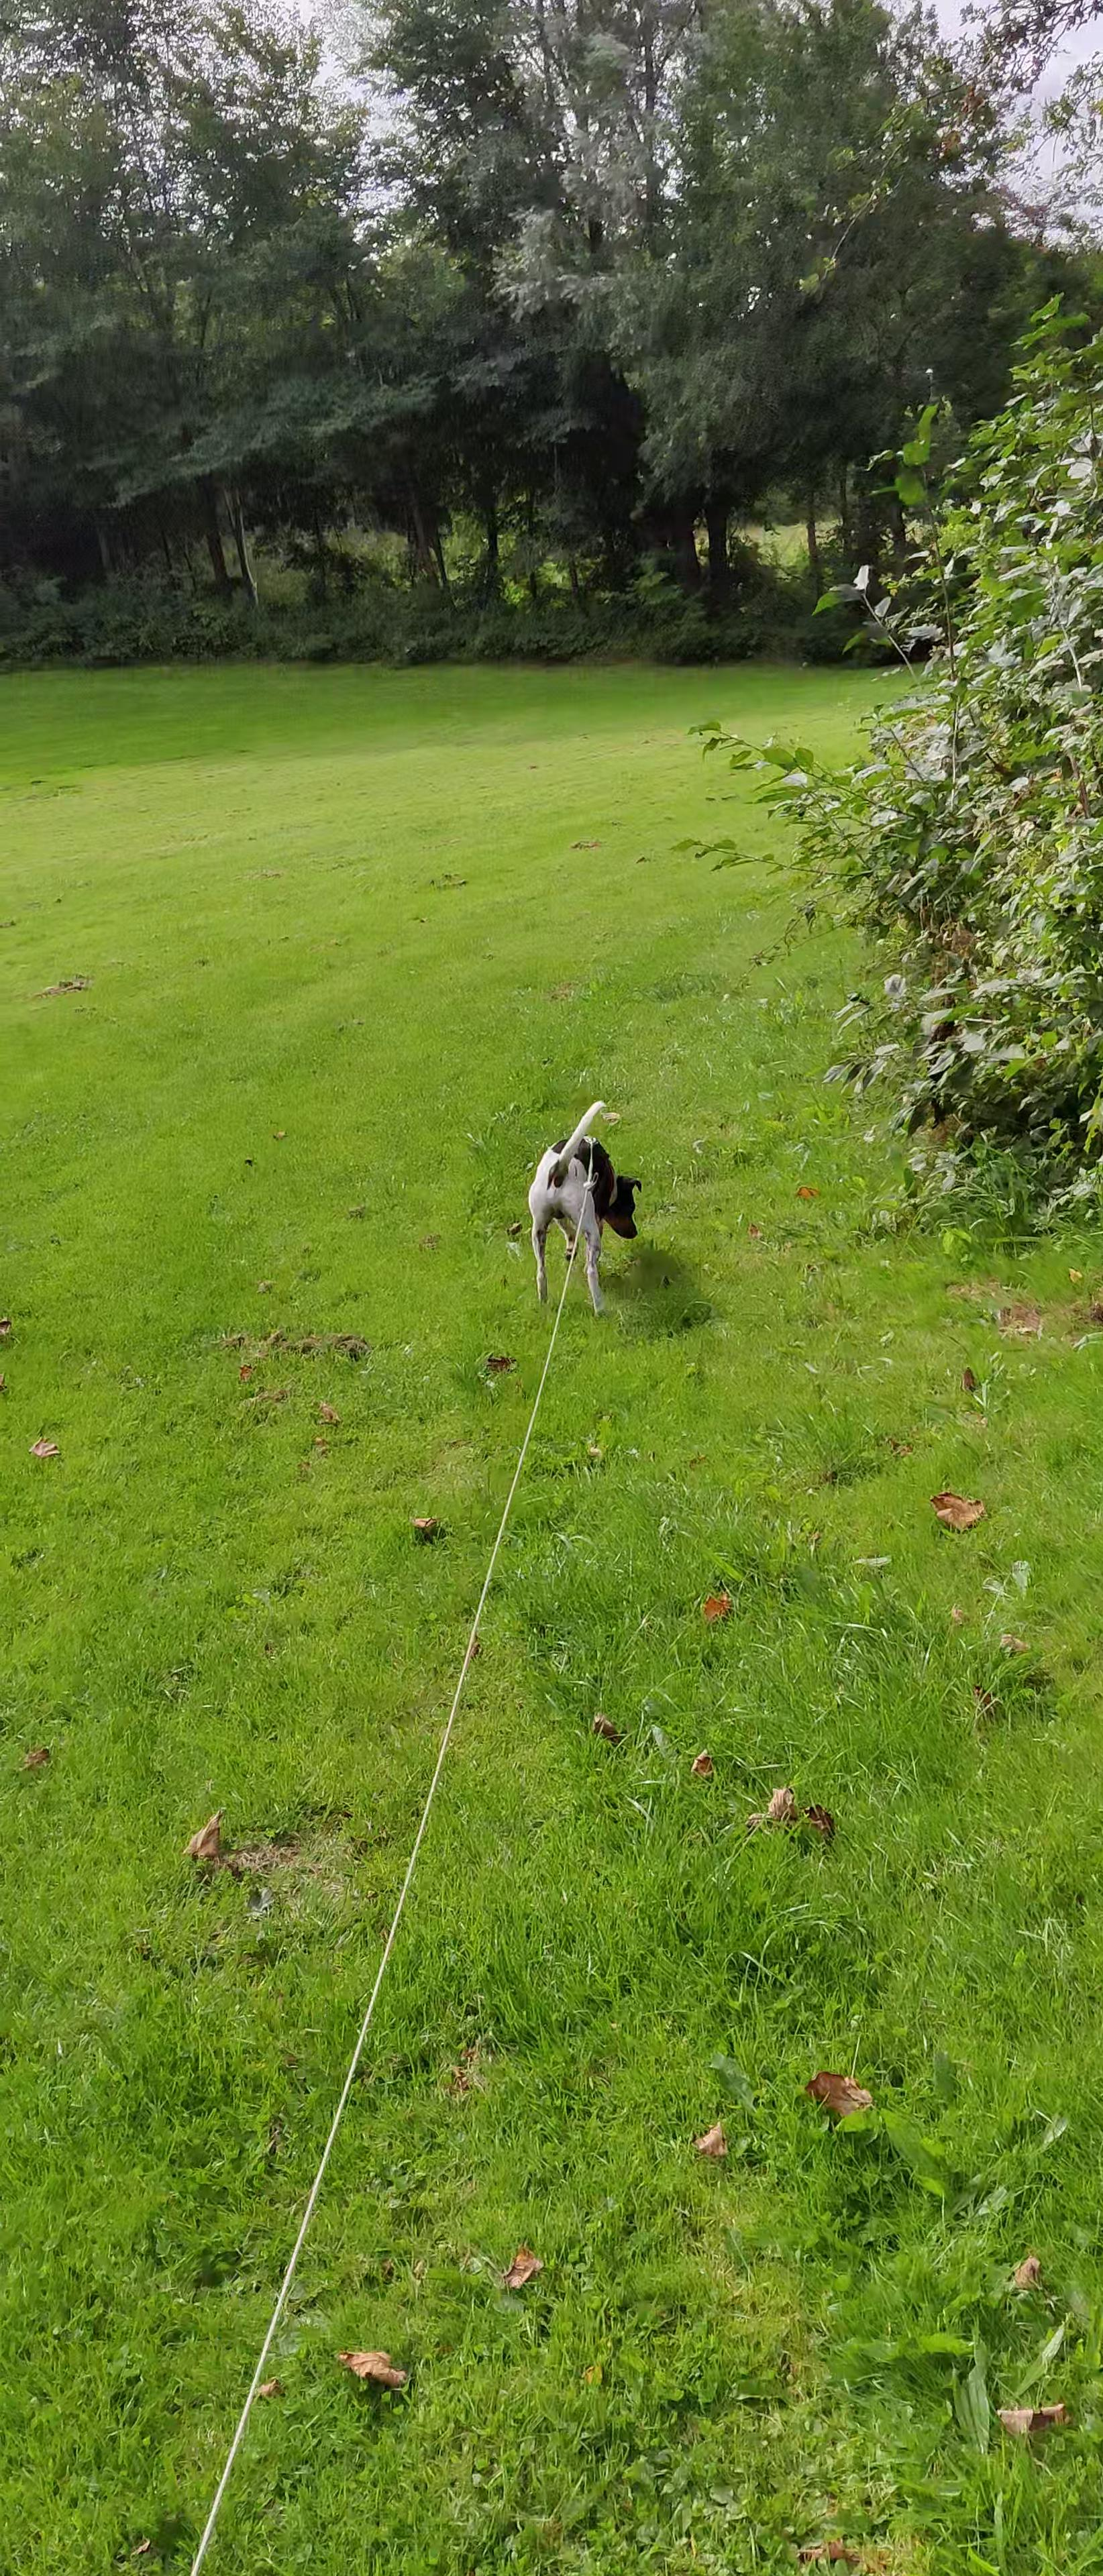Dog: (529, 1097, 643, 1324)
